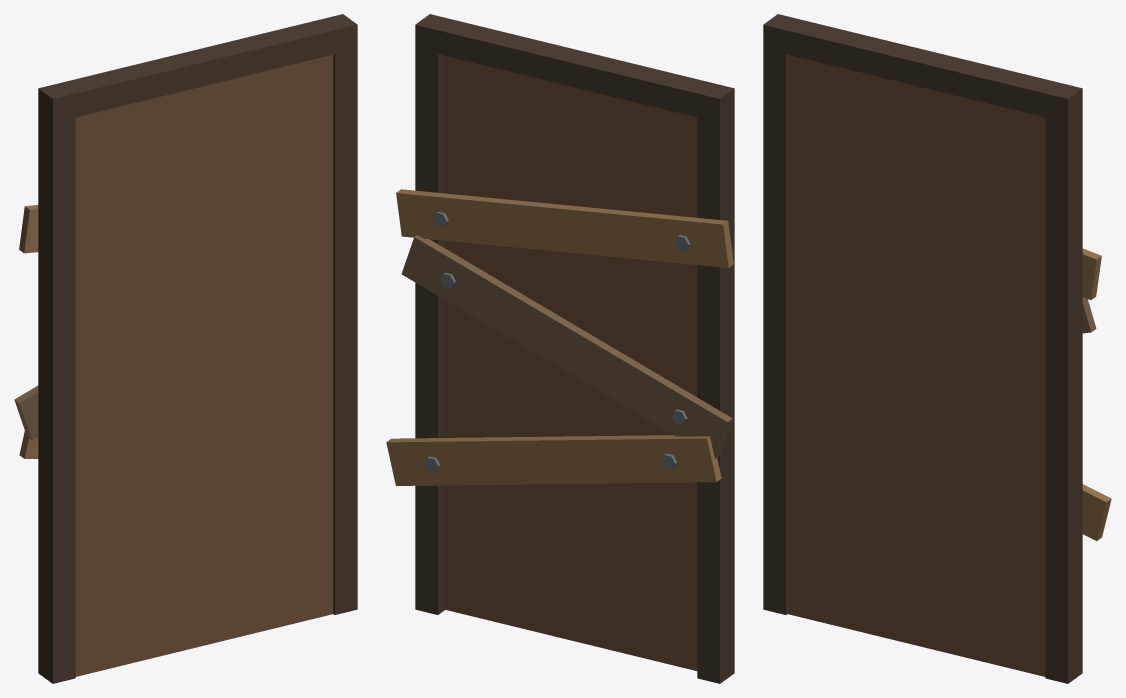
The model's file is boarded_door.glb.
3 views of the same model, side by side, from view 1: azimuth 30°, elevation 25°; view 2: azimuth 150°, elevation 25°; view 3: azimuth 330°, elevation 25° (orthographic).
Visible parts, largest first — view 1: boarded_door; view 2: boarded_door; view 3: boarded_door.
Part boxes in pixels (left/top/right/bottom): boarded_door: left=14, top=14, right=357, bottom=683; boarded_door: left=386, top=14, right=734, bottom=683; boarded_door: left=763, top=14, right=1111, bottom=683.
Size of what is drawn, in the model's own units: 1.33 by 2.2 by 0.188.
2 materials, 2 textured.
